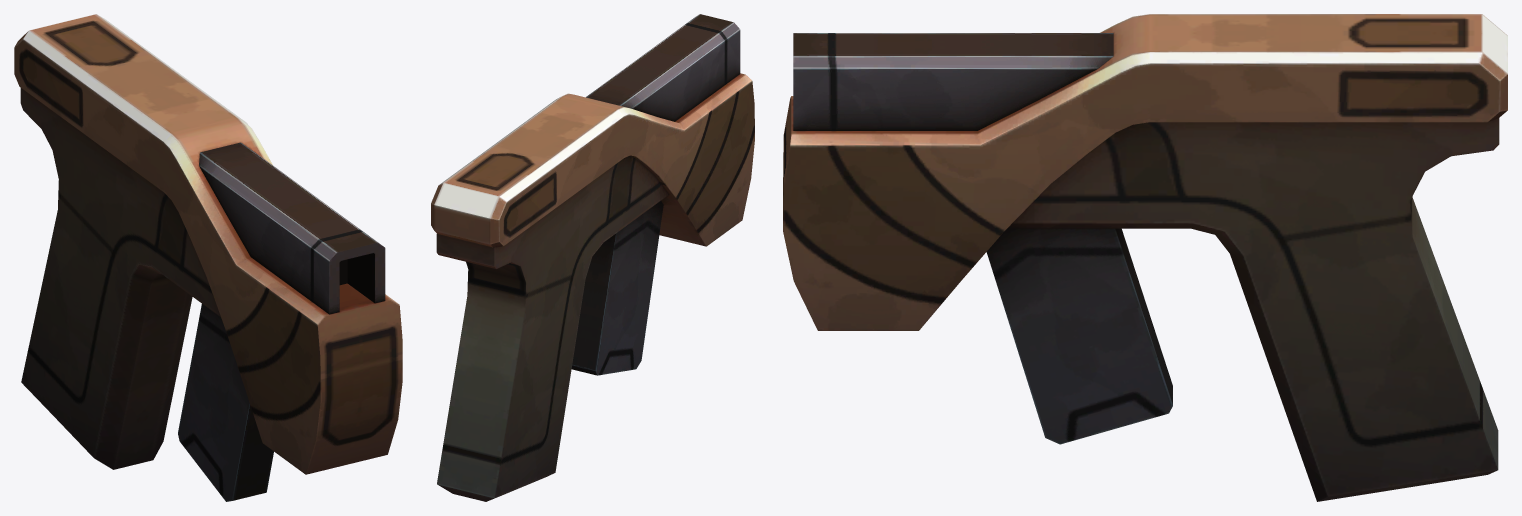
The model's file is Gun_TRUE_FBX.fbx.
The picture shows the model from 3 angles, left to right: view 1: azimuth 30°, elevation 25°; view 2: azimuth 150°, elevation 25°; view 3: azimuth 270°, elevation 25°; orthographic projection. The views are drawn at different scales.
Parts seen in each view (by area): view 1: Gun; view 2: Gun; view 3: Gun.
Part boxes in pixels (x1,y1,x2,y2): Gun: (14,14,402,501); Gun: (431,14,754,501); Gun: (783,14,1507,501).
Bounding box in the file's own units: 0.0761 × 0.4981 × 0.3468.
